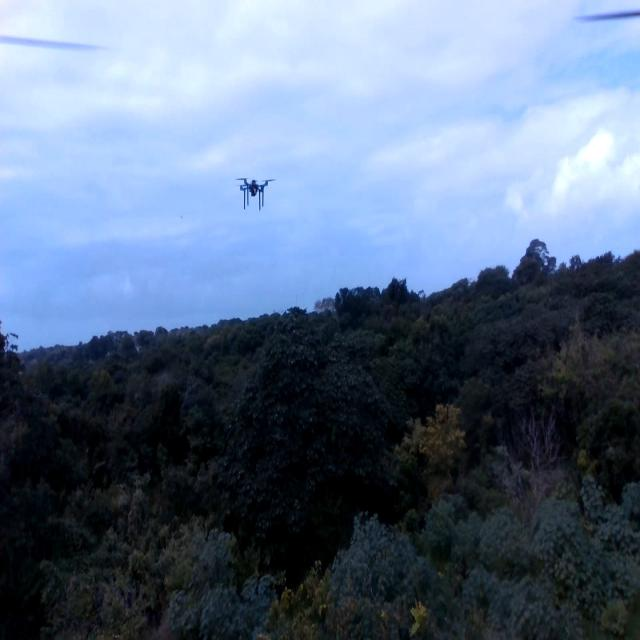-uav-: (227, 160, 275, 221)
